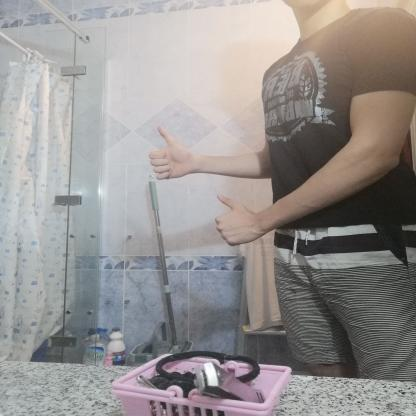ALIF: (202, 189, 274, 252), (141, 122, 200, 185)
